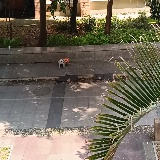fire: (64, 57, 69, 63)
